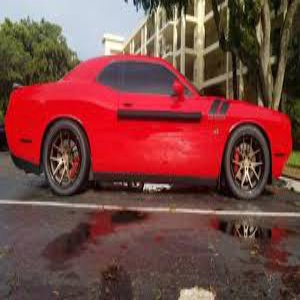door_scratch: (126, 128, 203, 162)
